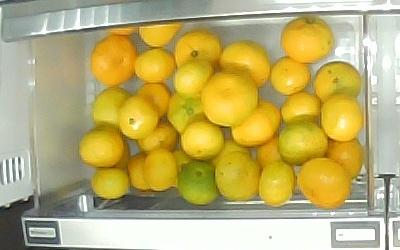tangerine: (202, 72, 258, 126), (298, 157, 352, 209), (219, 41, 271, 89), (281, 16, 334, 63), (231, 100, 282, 147), (90, 36, 136, 86), (216, 152, 261, 201), (278, 122, 327, 166), (320, 95, 364, 141), (313, 62, 361, 103), (175, 30, 221, 70), (78, 129, 123, 168), (178, 160, 217, 205), (167, 93, 210, 133), (118, 97, 158, 139), (92, 87, 130, 130), (259, 162, 296, 206), (270, 57, 312, 95), (173, 61, 216, 97), (182, 122, 223, 159), (327, 138, 363, 179), (134, 47, 175, 81), (143, 149, 176, 191), (136, 120, 179, 152), (255, 136, 296, 169), (134, 82, 170, 118), (137, 20, 185, 47), (281, 92, 321, 124), (91, 167, 129, 199), (126, 150, 149, 193)
